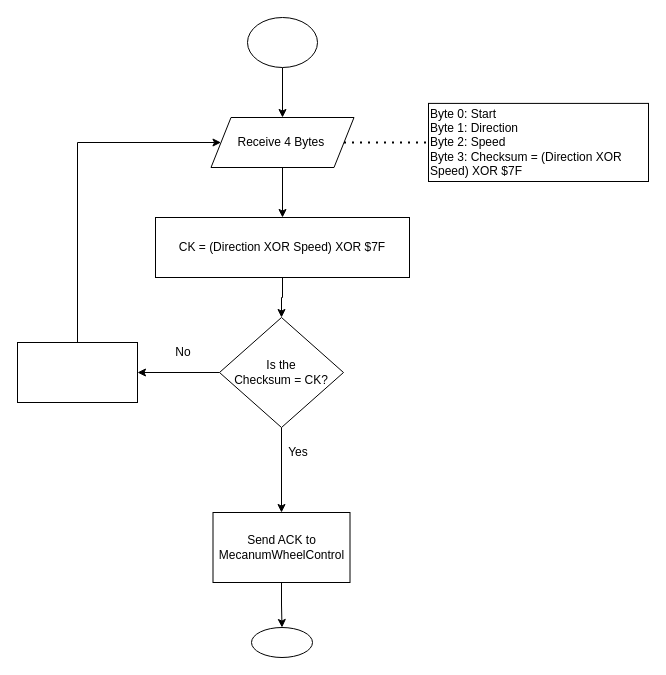
The diagram is 666 pixels wide and 675 high, and some of its shapes have lost their labels. Each missing label, with the centre of its shape:
Send Error to transmittor: pixel 77 372
Start: pixel 282 42
STOP: pixel 281 642
